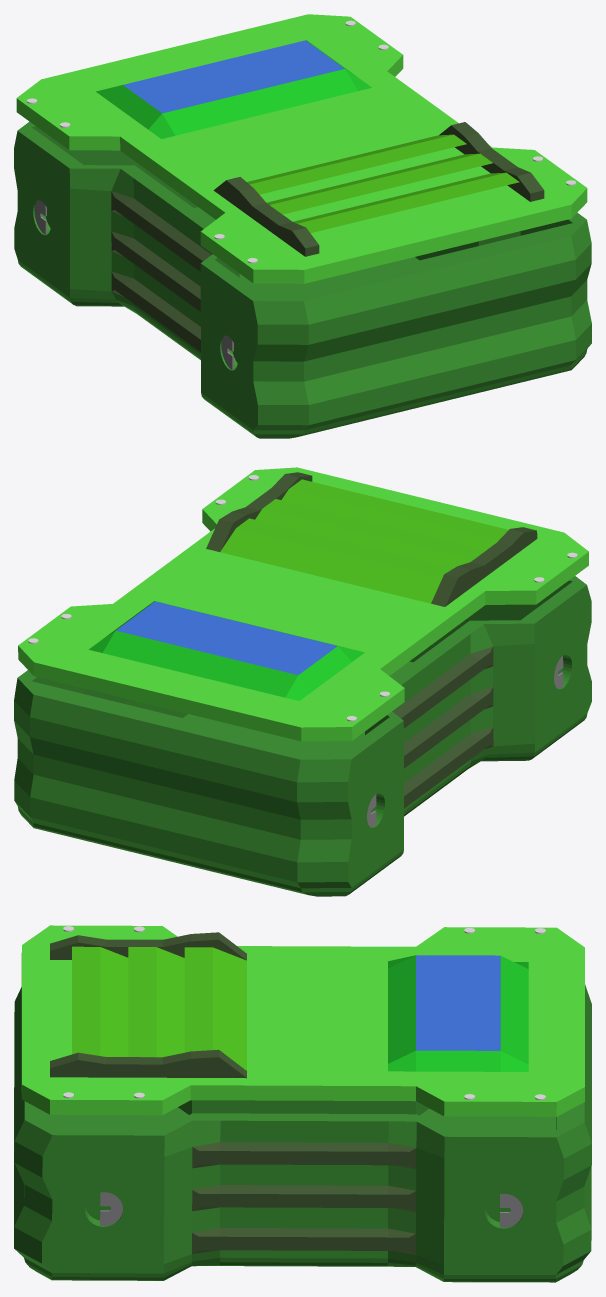
File: carcasa_prototipo.glb
The picture shows the model from 3 angles, top to bottom: view 1: azimuth 30°, elevation 25°; view 2: azimuth 150°, elevation 25°; view 3: azimuth 270°, elevation 25°; orthographic projection. The views are drawn at different scales.
Visible parts, largest first — view 1: Carcasa2, Tapa-Carcasa2, Cube.006; view 2: Carcasa2, Tapa-Carcasa2; view 3: Tapa-Carcasa2, Carcasa2, Cube.006.
Boxes of the visible parts, x1,y1,x2,y2 form: Carcasa2: [14, 121, 591, 438]; Tapa-Carcasa2: [16, 14, 587, 283]; Cube.006: [34, 200, 233, 369]; Carcasa2: [14, 576, 591, 896]; Tapa-Carcasa2: [18, 467, 588, 741]; Tapa-Carcasa2: [21, 925, 584, 1116]; Carcasa2: [14, 984, 591, 1282]; Cube.006: [100, 1192, 523, 1227].
Bounding box in the file's own units: 75.2 × 41.5 × 105.
